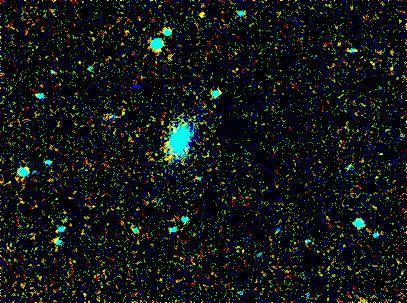star: (184, 0, 214, 28)
